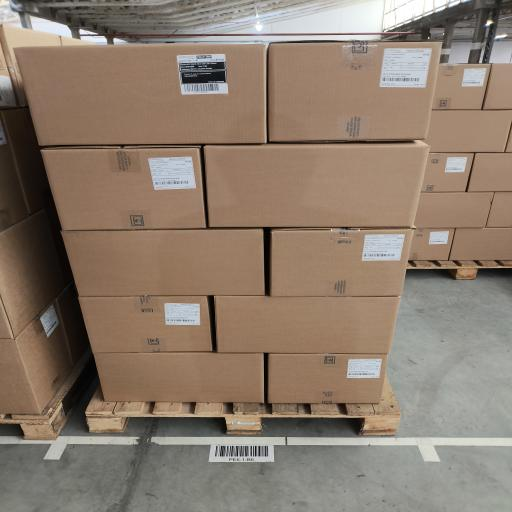pallet: (86, 378, 400, 435), (0, 348, 97, 440), (407, 261, 511, 279)
